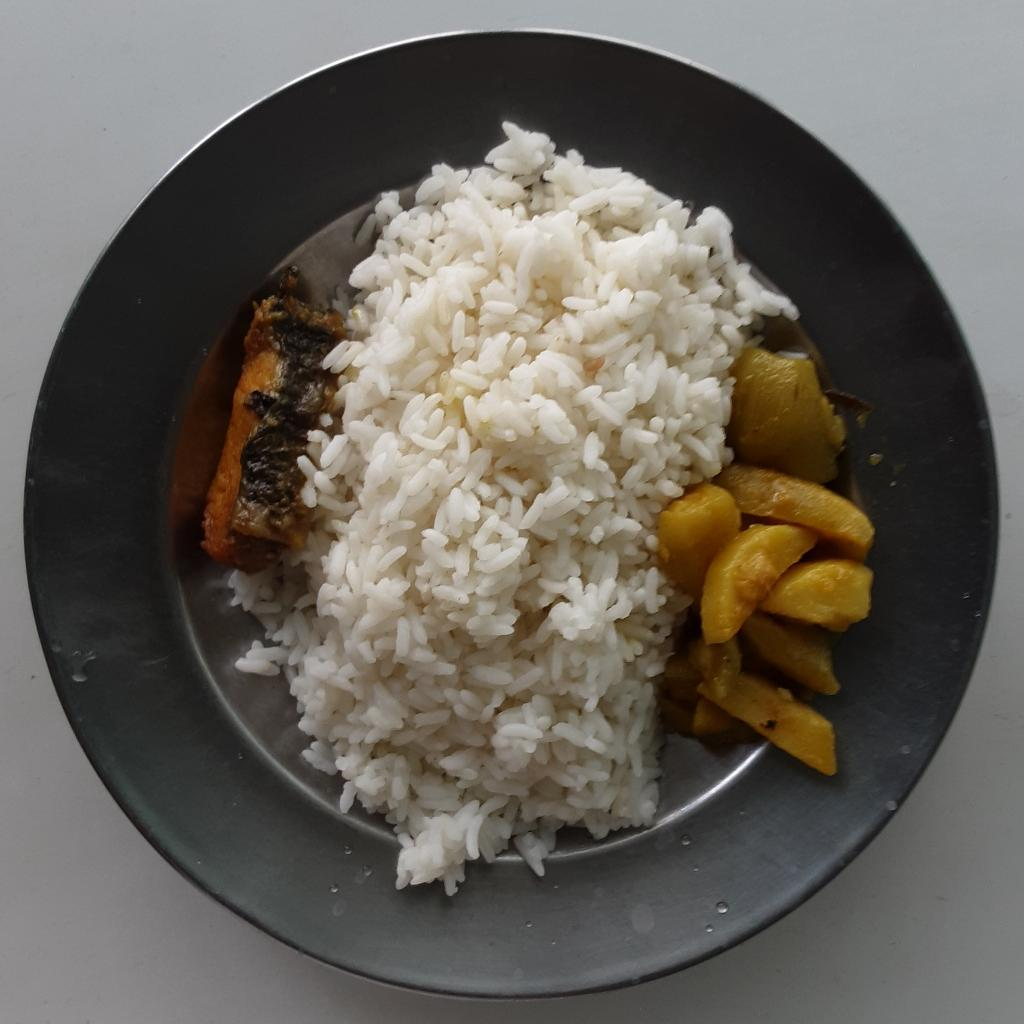fish: (196, 271, 347, 573)
potato: (655, 479, 872, 777)
potol: (717, 336, 886, 565), (738, 621, 841, 693)
rice: (228, 126, 798, 892)
